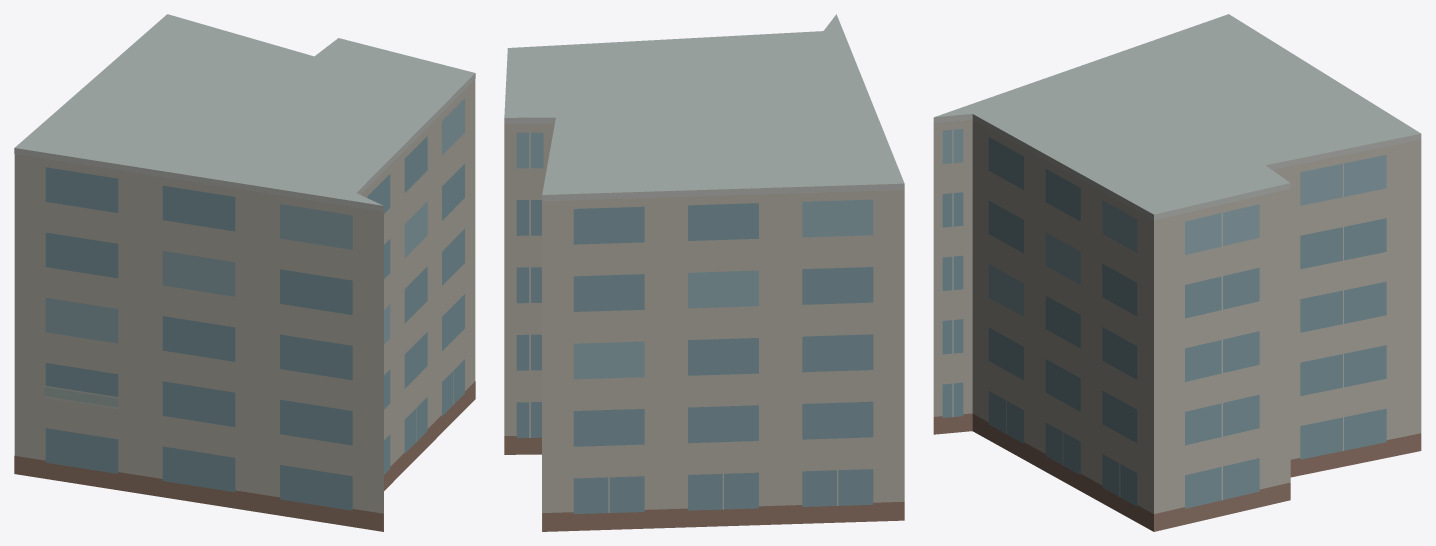
The model's file is survey-upis-32721780.glb.
The picture shows the model from 3 angles, left to right: view 1: azimuth 30°, elevation 25°; view 2: azimuth 150°, elevation 25°; view 3: azimuth 270°, elevation 25°; orthographic projection. The views are drawn at different scales.
Visible parts, largest first — view 1: survey-upis-32721780.tmp; view 2: survey-upis-32721780.tmp; view 3: survey-upis-32721780.tmp.
Boxes of the visible parts, bbox=[...] form: survey-upis-32721780.tmp: bbox=[14, 14, 475, 531]; survey-upis-32721780.tmp: bbox=[504, 14, 904, 531]; survey-upis-32721780.tmp: bbox=[933, 14, 1421, 531].
Bounding box in the file's own units: 18.05 × 13.3 × 18.54.
